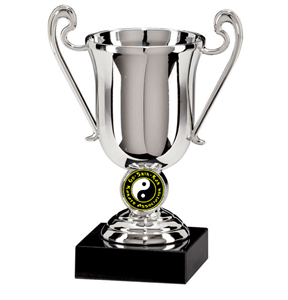trophy: (45, 2, 246, 286)
